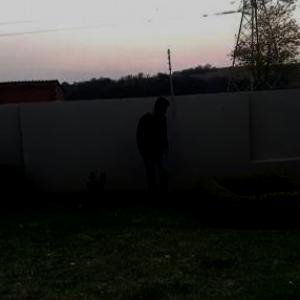follow: (135, 91, 171, 210)
